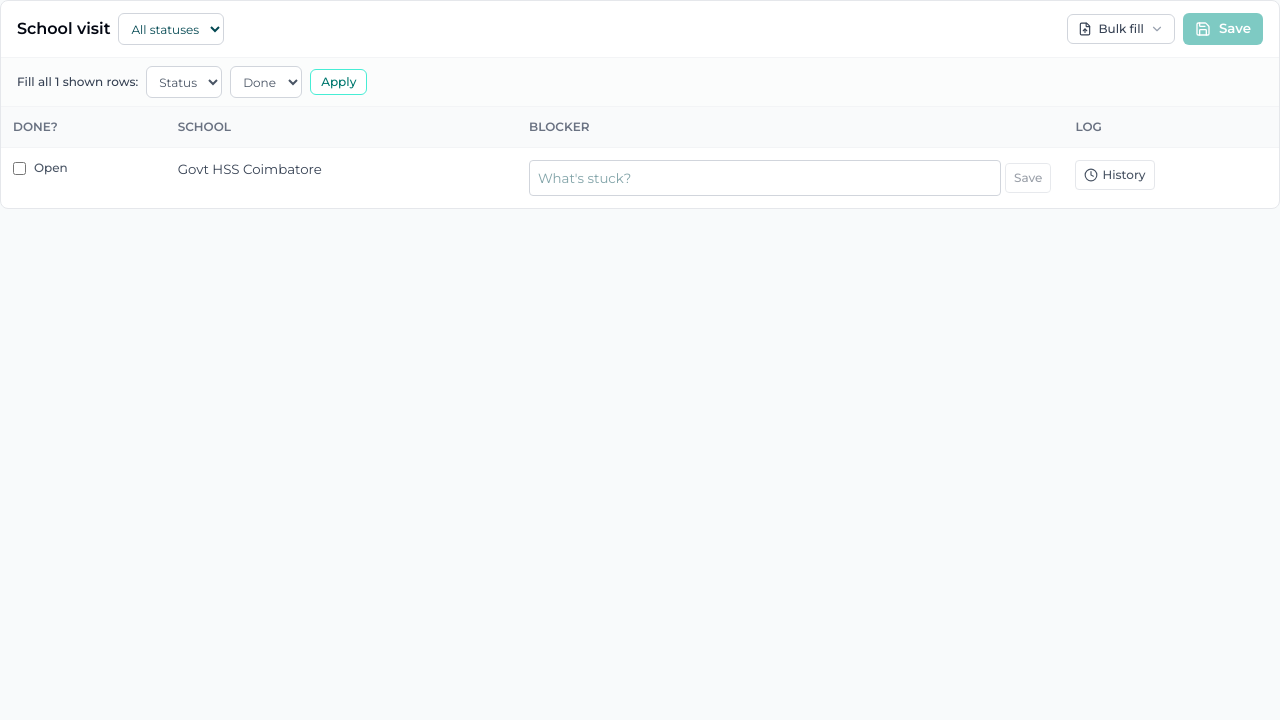
Test: grid toolbar — bulk fill menu › closes the menu on a click outside it
Click the button "Bulk fill".
click(1121, 29)  # box [1067,14,1175,44]
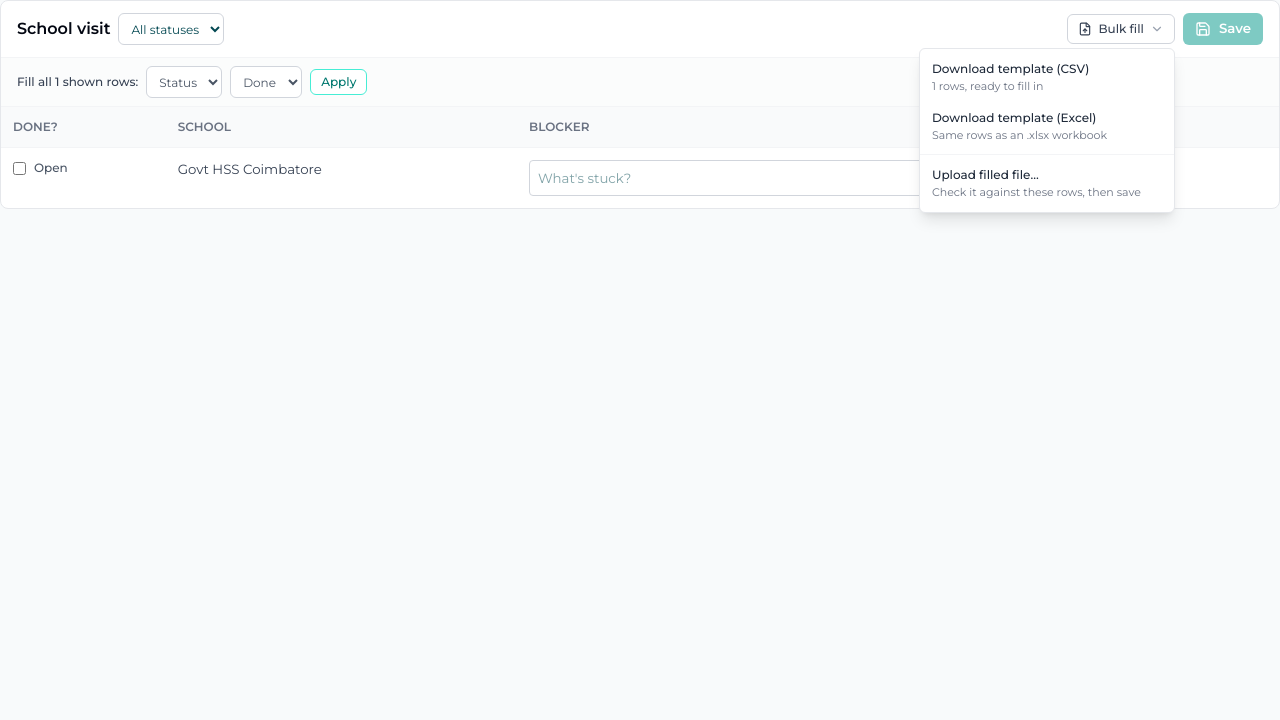
Press the mouse on the element that starts with "School visit" at (640, 360), box [0,0,1279,719]
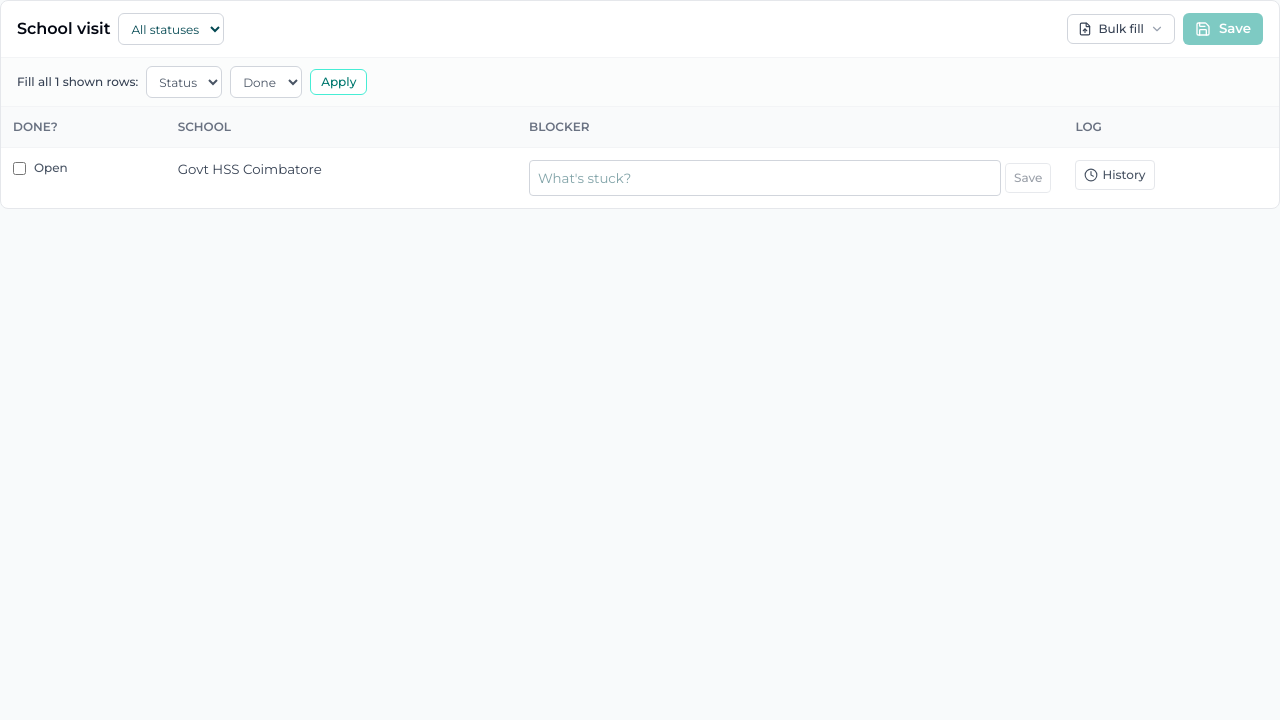
expect the menu item "CSV" is gone: met
